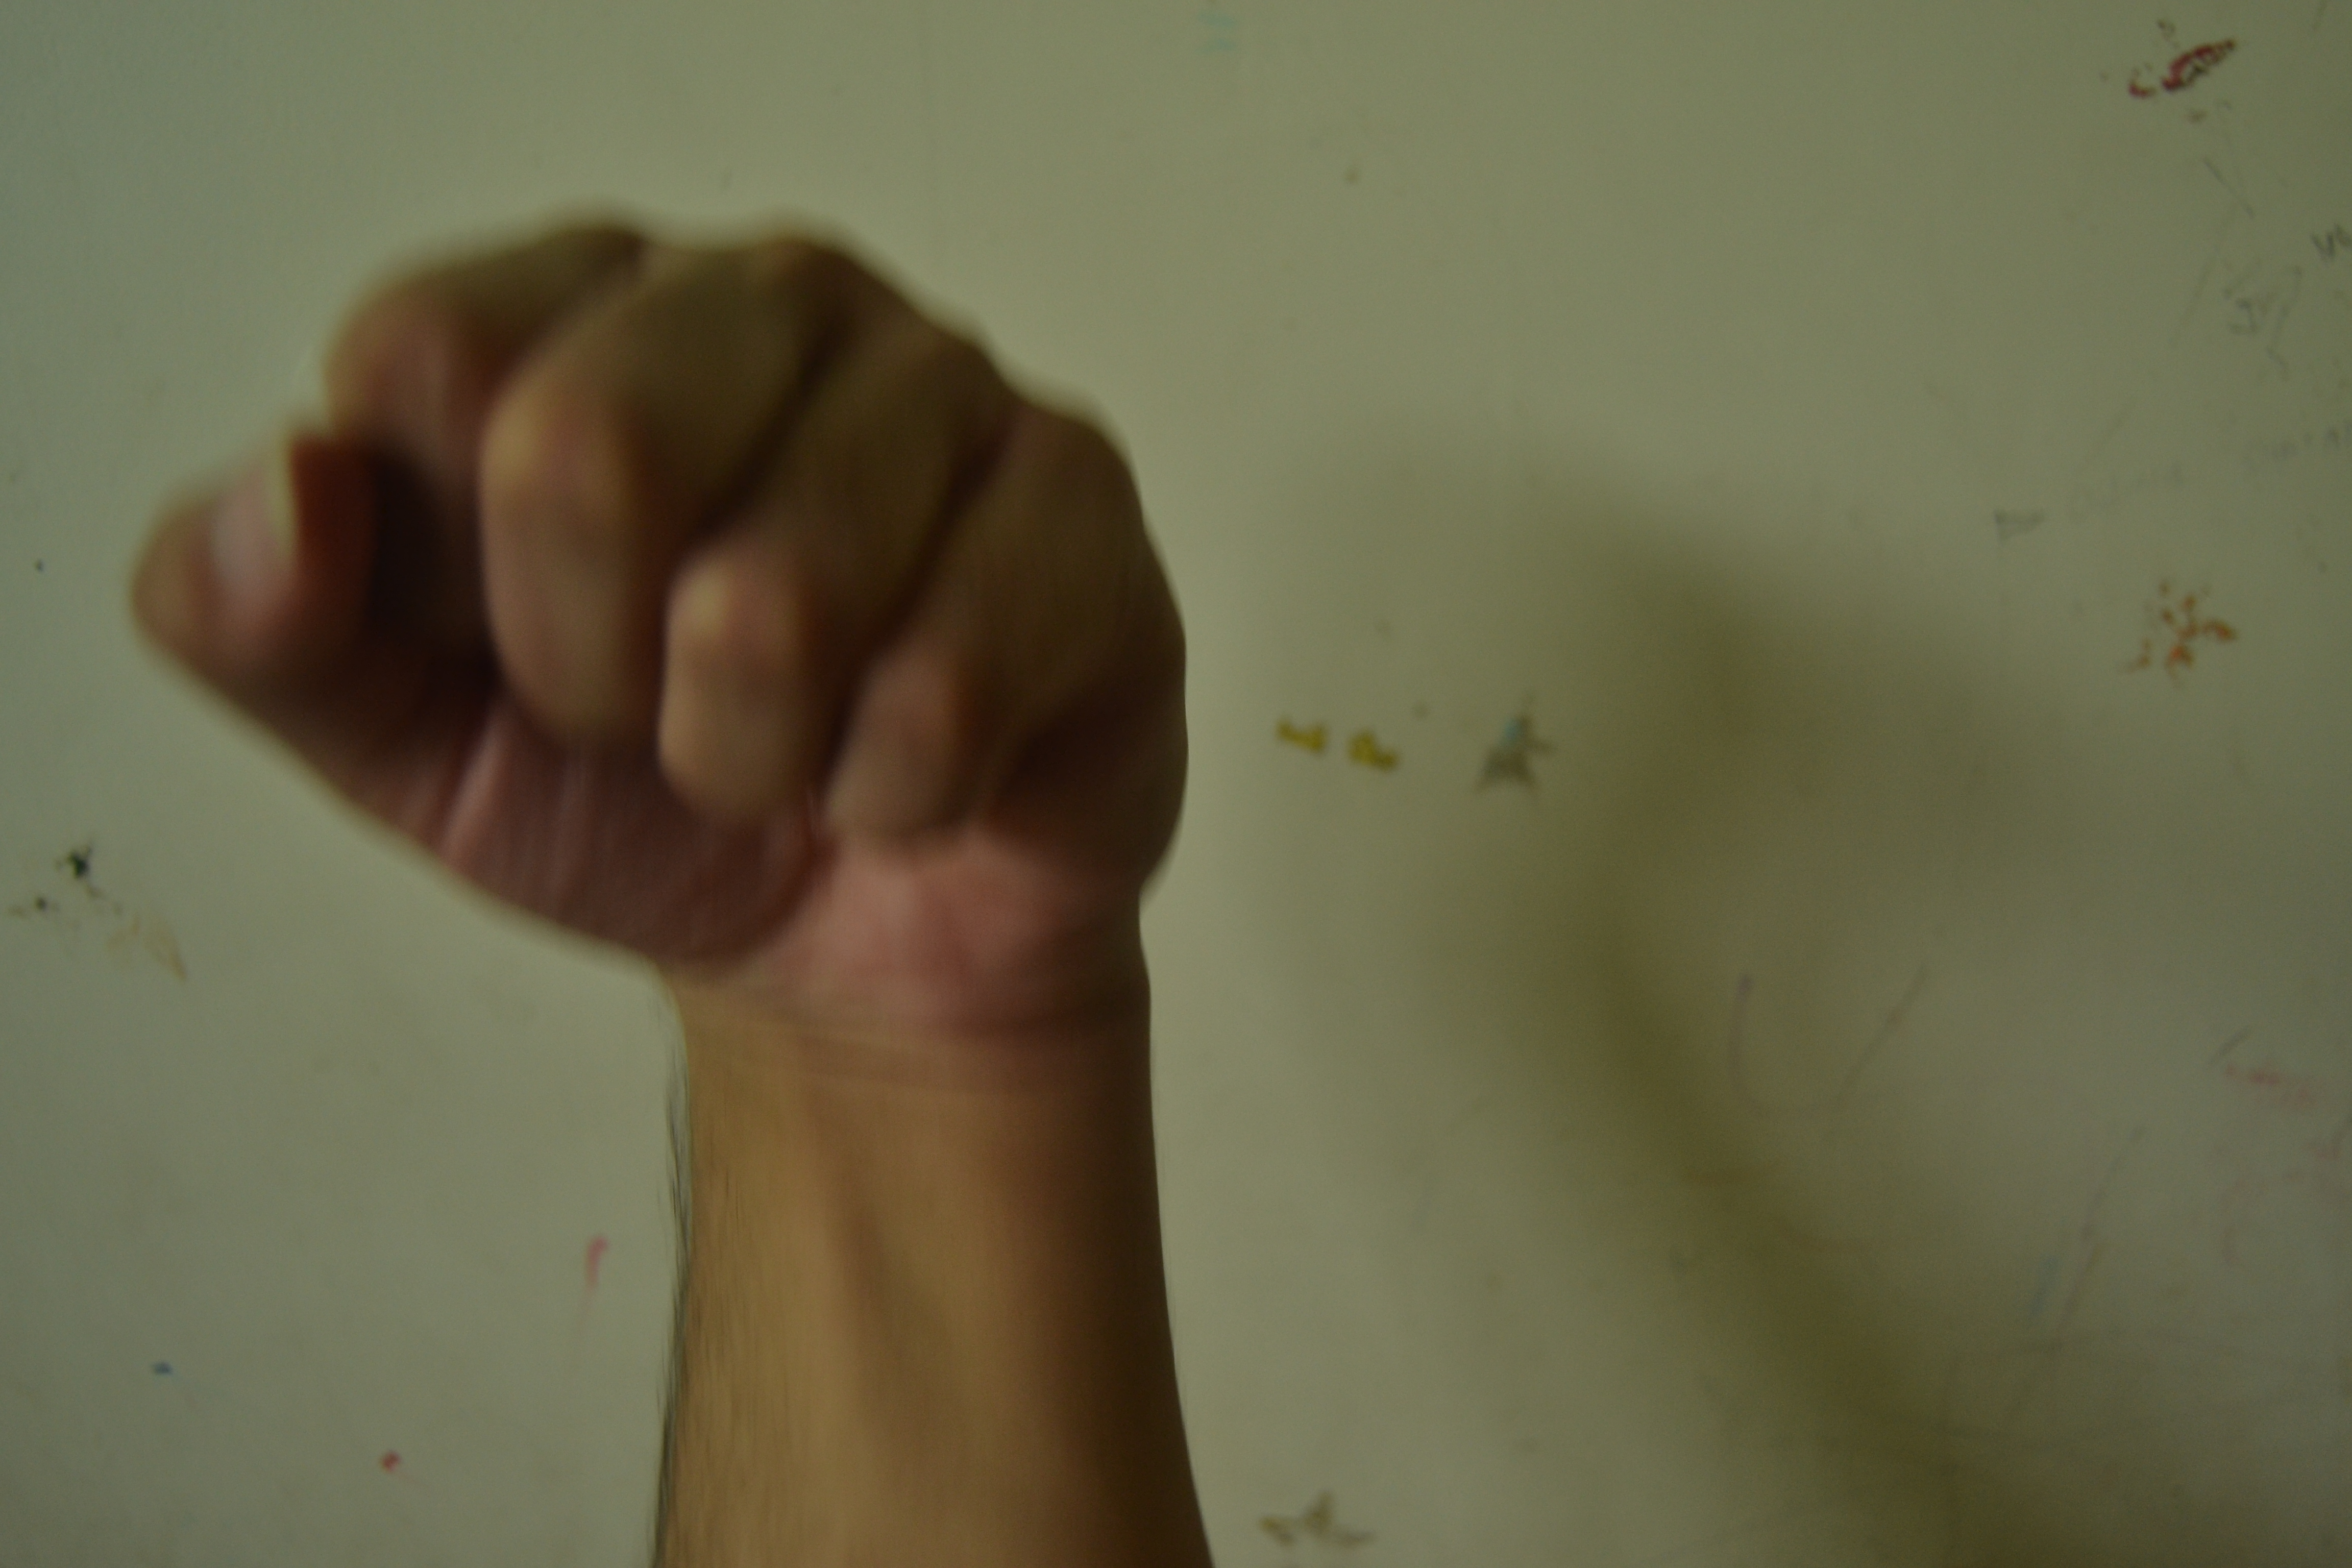click: (126, 192, 1346, 1146)
